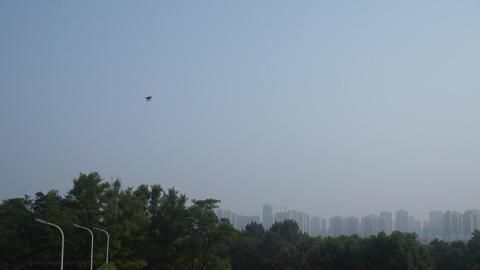UAV: (144, 96, 152, 102)
